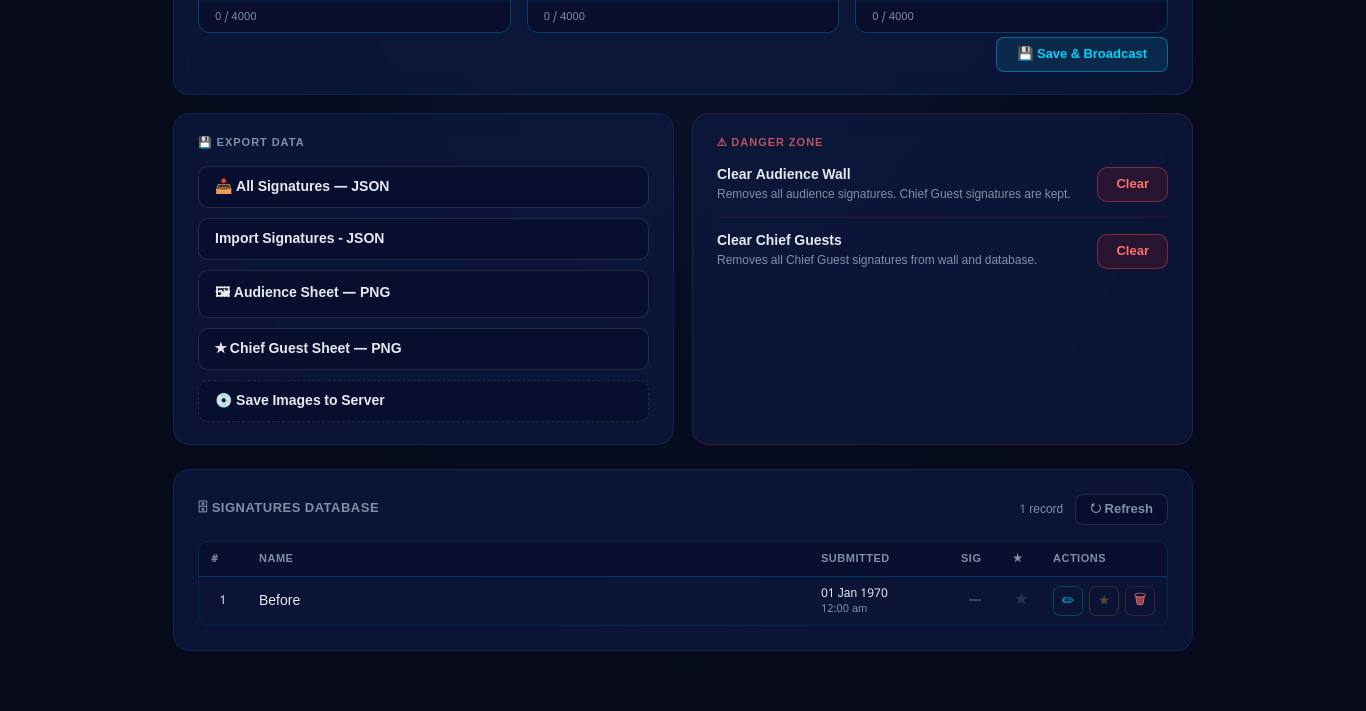
Test: AdminPage › edits a database row name and posts the trimmed value
This screenshot has width=1366, height=711.
(page scrolled)
Expected: the text "Before" is shown, [259,593,300,610]
Step 1. Click the button titled "Edit name" → [1068, 601], box [1053,586,1083,616]
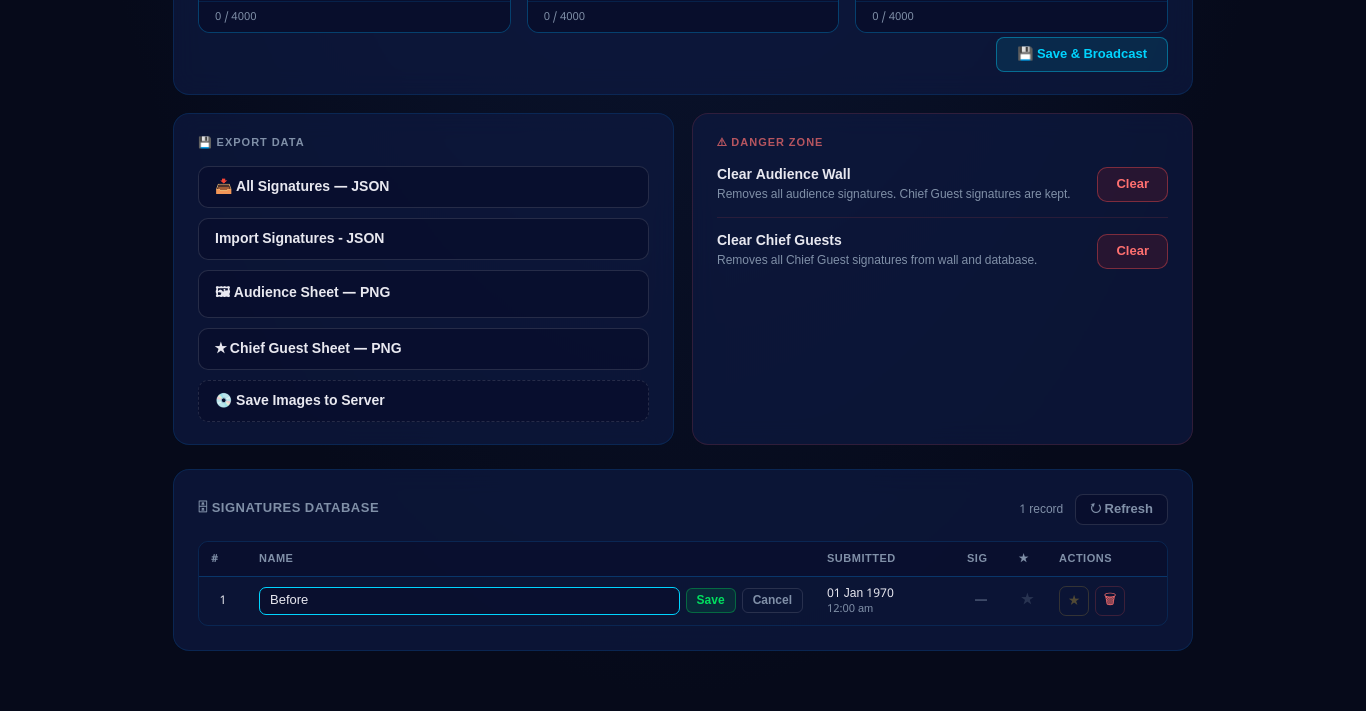
Step 2. Replace the text in the field showing "Before" with "  After  " → [469, 601], box [259,587,680,615]
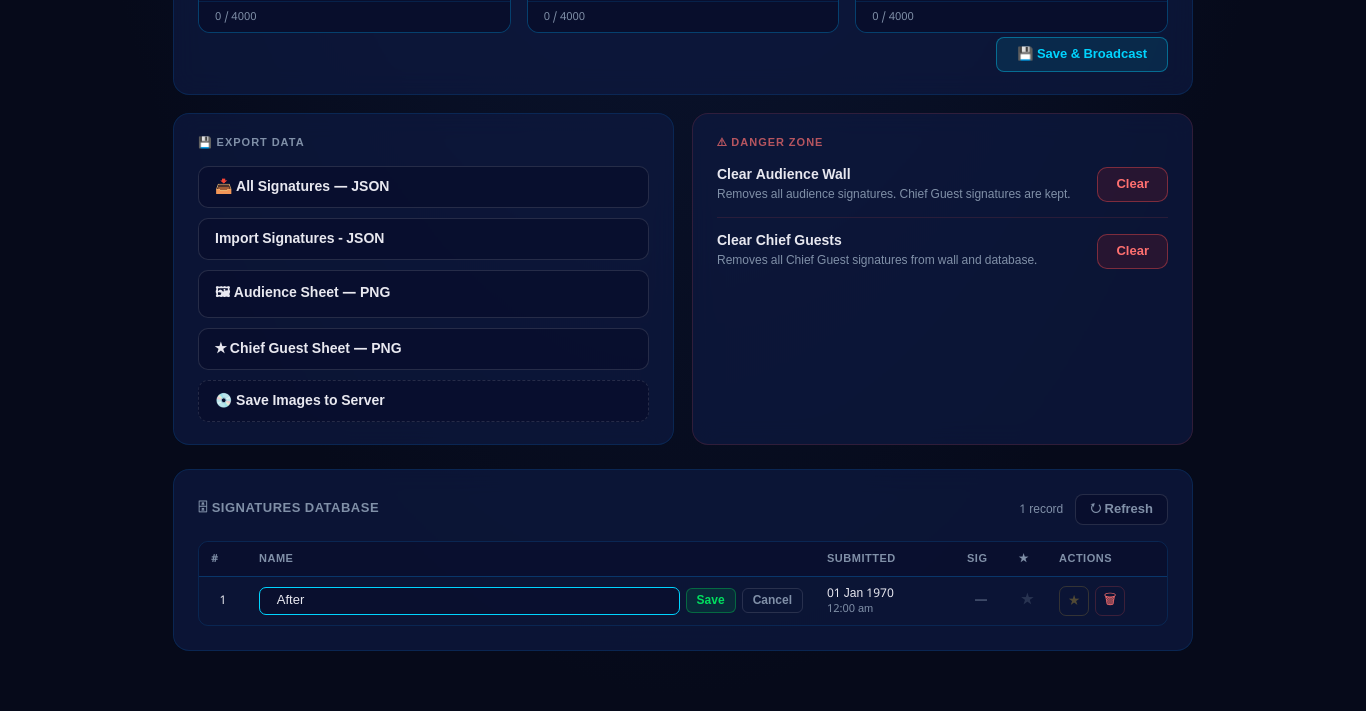
Step 3. Click the button "Save" → [711, 601], box [686,588,736,613]
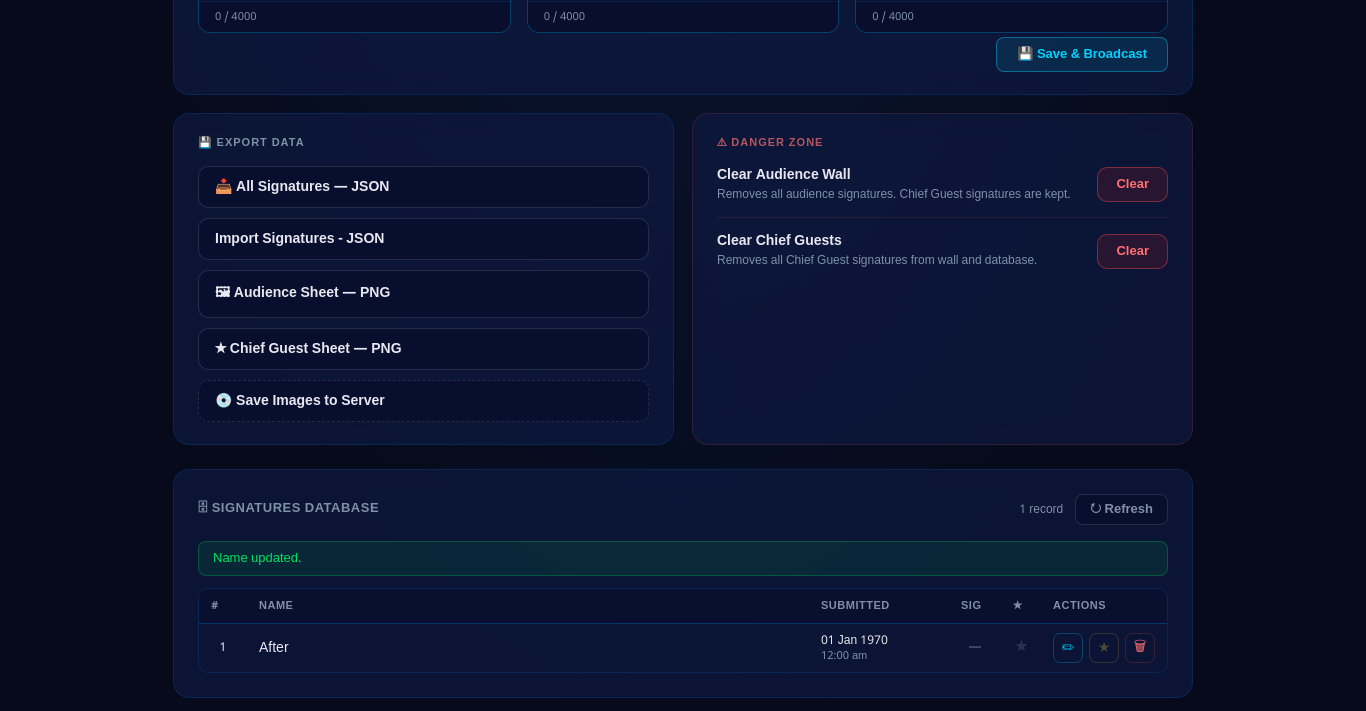
Now the text "Name updated." is shown, box [198,541,1168,576]
